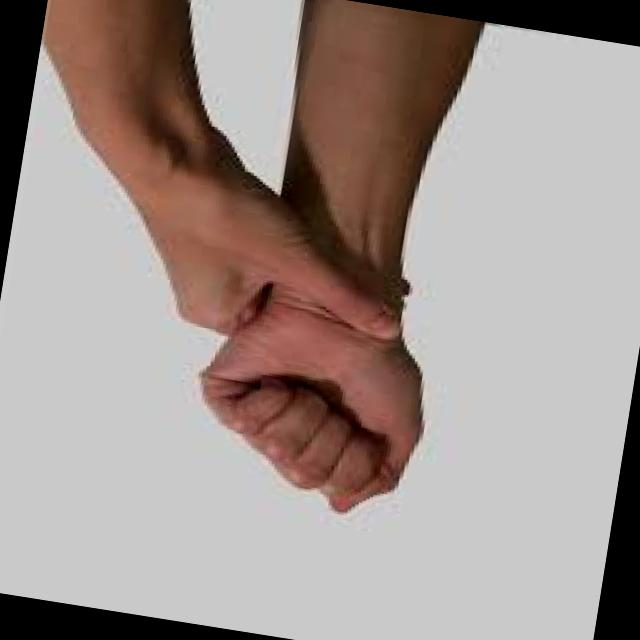Hand: (94, 109, 437, 368), (170, 242, 459, 532)
